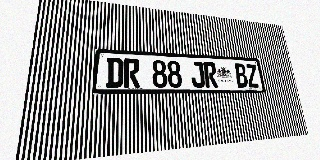8: (152, 60, 168, 88), (167, 60, 182, 88)
B: (234, 63, 249, 87)
D: (106, 58, 123, 88)
J: (190, 61, 205, 88)
R: (124, 58, 140, 88), (203, 62, 218, 88)
Z: (245, 64, 260, 87)
